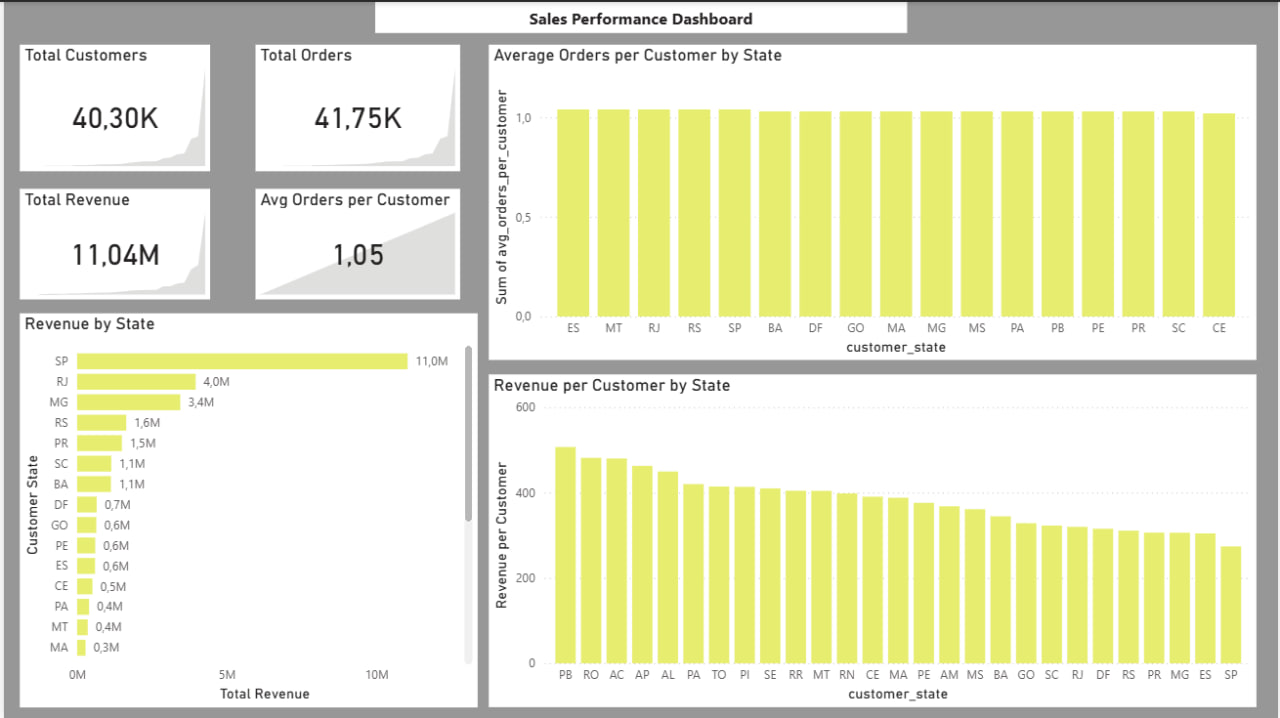

The page's visual inventory and layout, read from the dashboard file:
{"tool":"powerbi","page":{"name":"Сторінка 1","canvas":[1280,720],"ordinal":0},"visuals":[{"type":"kpi","title":"Total Orders","fields":{"Indicator":["Sum(state_perfomance.total_orders)"],"TrendLine":["state_performance.total_orders"]},"box":[252.9,42.9,205.7,127.1],"z":0},{"type":"kpi","title":"Total Customers","fields":{"TrendLine":["state_perfomance.total_customers"],"Indicator":["Sum(state_perfomance.total_customers)"]},"box":[15.7,42.9,191.4,127.1],"z":1000},{"type":"kpi","title":"Avg Orders per Customer","fields":{"TrendLine":["state_perfomance.avg_orders_per_customer"],"Indicator":["Avg(state_perfomance.avg_orders_per_customer)"]},"box":[252.9,187.1,205.7,111.4],"z":2000},{"type":"clusteredBarChart","title":"Revenue by State","fields":{"Category":["state_perfomance.customer_state"],"Y":["Sum(state_perfomance.total_revenue)"]},"box":[15.7,312.9,460,395.7],"z":3000},{"type":"clusteredColumnChart","title":"Average Orders per Customer by State","fields":{"Y":["Sum(state_perfomance.avg_orders_per_customer)"],"Category":["state_perfomance.customer_state"]},"box":[487.1,42.9,771.4,317.1],"z":4000},{"type":"kpi","title":"Total Revenue","fields":{"TrendLine":["state_performance.total_revenue"],"Indicator":["Sum(state_performance.total_revenue)"]},"box":[15.7,187.1,191.4,111.4],"z":5000},{"type":"clusteredColumnChart","title":"Revenue per Customer by State","fields":{"Y":["state_performance.Revenue per Customer"],"Category":["state_performance.customer_state"]},"box":[487.1,374.3,771.4,334.3],"z":6000},{"type":"textbox","box":[372.9,0,534.3,31.4],"z":6001}]}

Visuals, with their boxes in screenshot pixels (x1, y1, x2, y2), scaled from the page's 1280x720 canvas onto the 1280x718 screenshot:
"Total Orders" kpi: (left=253, top=43, right=459, bottom=170)
"Total Customers" kpi: (left=16, top=43, right=207, bottom=170)
"Avg Orders per Customer" kpi: (left=253, top=187, right=459, bottom=298)
"Revenue by State" clusteredBarChart: (left=16, top=312, right=476, bottom=707)
"Average Orders per Customer by State" clusteredColumnChart: (left=487, top=43, right=1258, bottom=359)
"Total Revenue" kpi: (left=16, top=187, right=207, bottom=298)
"Revenue per Customer by State" clusteredColumnChart: (left=487, top=373, right=1258, bottom=707)
textbox: (left=373, top=0, right=907, bottom=31)
